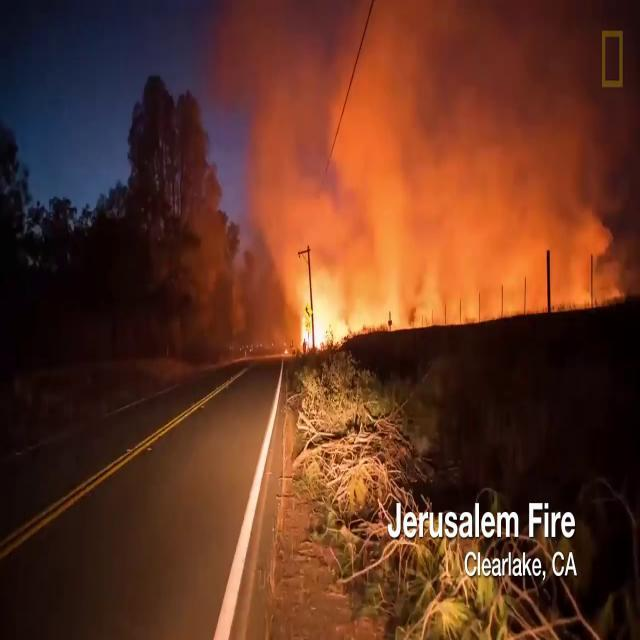Fire: (296, 302, 332, 348)
